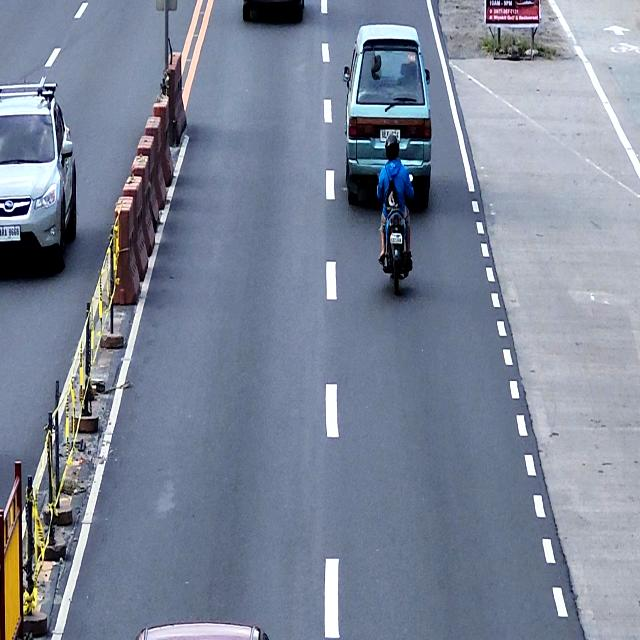Car: (343, 22, 432, 207), (0, 75, 77, 268)
License-Plate: (0, 224, 22, 243), (379, 128, 401, 143), (390, 232, 403, 245)
Motorcycle: (379, 179, 412, 295)
